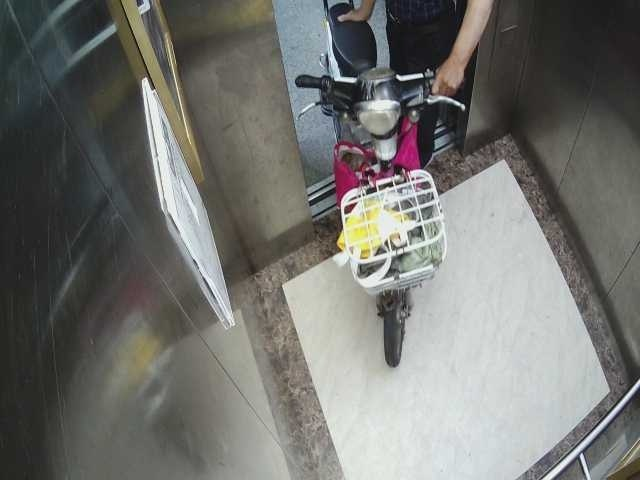emotor: (285, 6, 461, 365)
